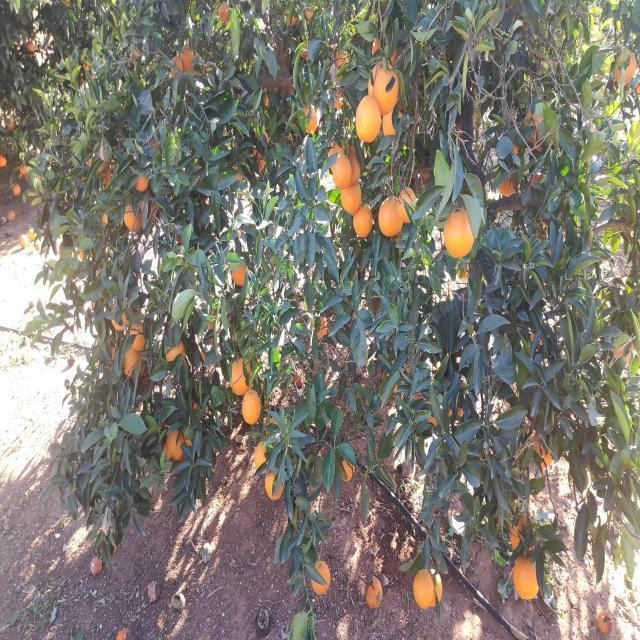Jeruk Sudah Matang: (368, 60, 398, 116), (444, 207, 474, 259), (513, 553, 540, 601), (356, 95, 382, 142), (378, 196, 404, 236), (382, 99, 404, 142), (413, 569, 434, 612), (614, 48, 637, 85), (230, 358, 252, 396), (511, 512, 534, 548), (531, 432, 553, 468), (312, 558, 330, 598), (524, 108, 544, 144), (340, 184, 363, 214), (400, 188, 418, 225), (332, 155, 352, 188), (242, 390, 260, 426), (328, 138, 346, 172), (165, 429, 184, 461), (129, 319, 148, 351), (353, 206, 372, 237), (308, 314, 328, 342), (110, 303, 130, 331), (266, 468, 284, 499), (166, 341, 185, 369), (124, 348, 143, 376), (612, 342, 635, 365), (429, 570, 442, 608), (124, 205, 142, 232), (231, 261, 249, 287), (254, 440, 268, 473), (347, 154, 361, 187), (302, 104, 317, 134), (180, 45, 195, 72), (498, 177, 517, 196), (141, 200, 157, 222), (96, 161, 111, 184), (341, 460, 355, 482), (218, 1, 231, 24), (334, 89, 348, 109), (170, 56, 183, 77), (136, 175, 150, 192), (58, 242, 72, 258), (256, 152, 266, 174), (206, 310, 216, 330), (232, 166, 242, 186), (284, 10, 296, 26), (335, 57, 348, 71), (306, 3, 315, 21), (77, 247, 87, 260), (12, 184, 22, 197), (20, 164, 28, 176), (26, 41, 34, 52), (0, 156, 7, 168), (102, 213, 108, 226)
